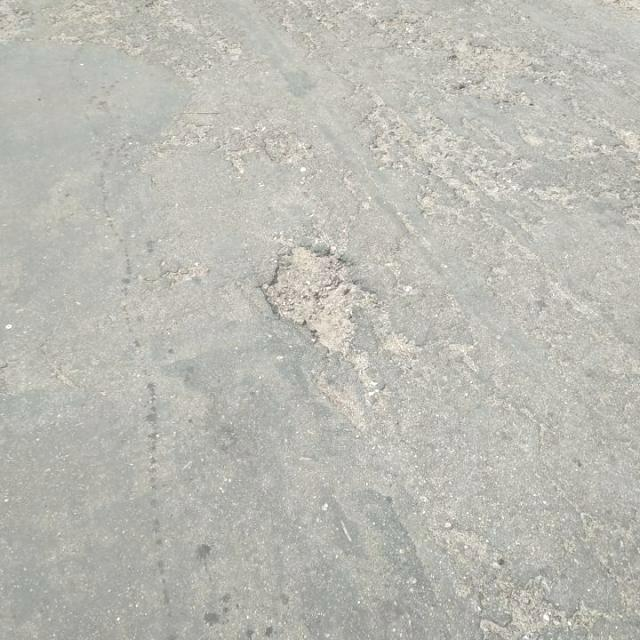Pothole: (266, 243, 383, 354), (450, 36, 530, 107)
